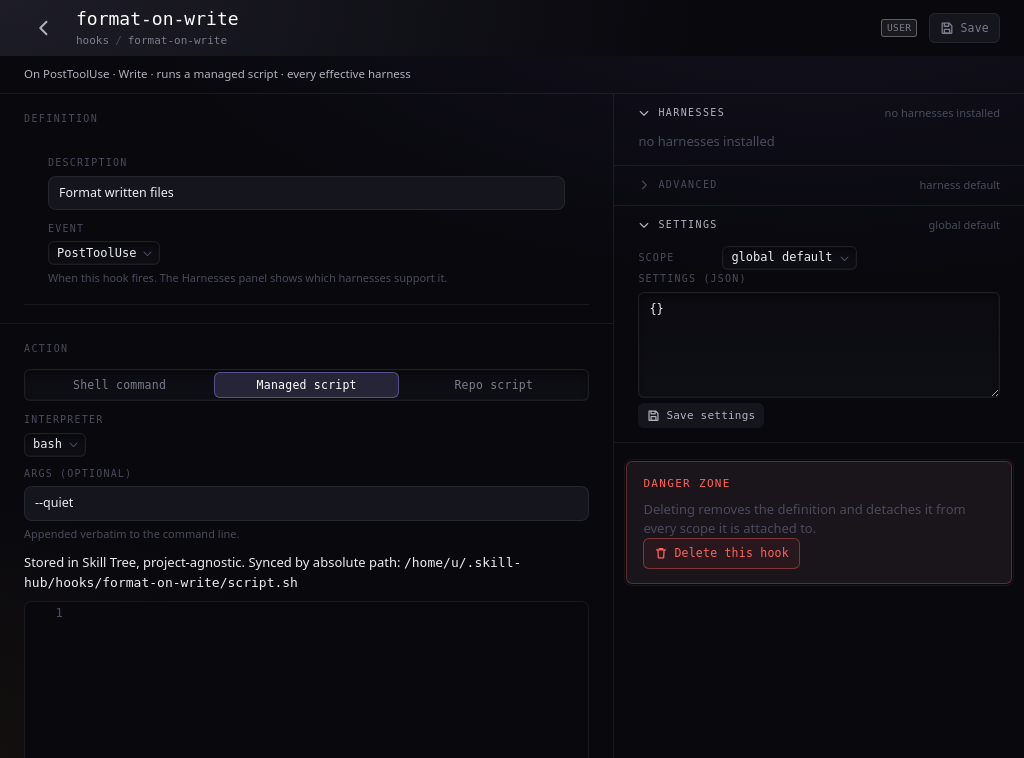
Scenario: HookActionEditor — switching away from a managed script (D6) › cancelling the confirm writes nothing and keeps the edit pending
The width and height of the screenshot is (1024, 758).
expect the text "/home/u/.skill-hub/hooks/format-on-write/script.sh" is shown: met, box x1=24 y1=556 x2=521 y2=590
Click the radio button labelled "Shell command".
click(120, 385)  # box x1=73 y1=378 x2=166 y2=392
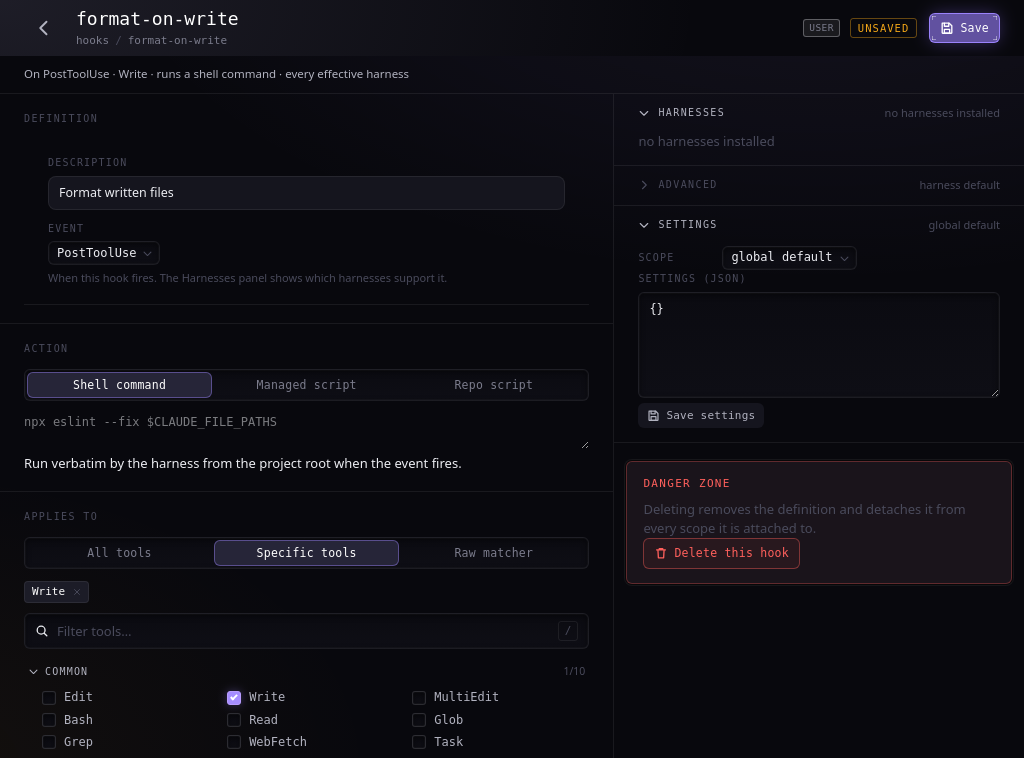
Type "echo hi" into the text box named "command".
click(307, 431); type("echo hi")  # box x1=24 y1=413 x2=589 y2=449
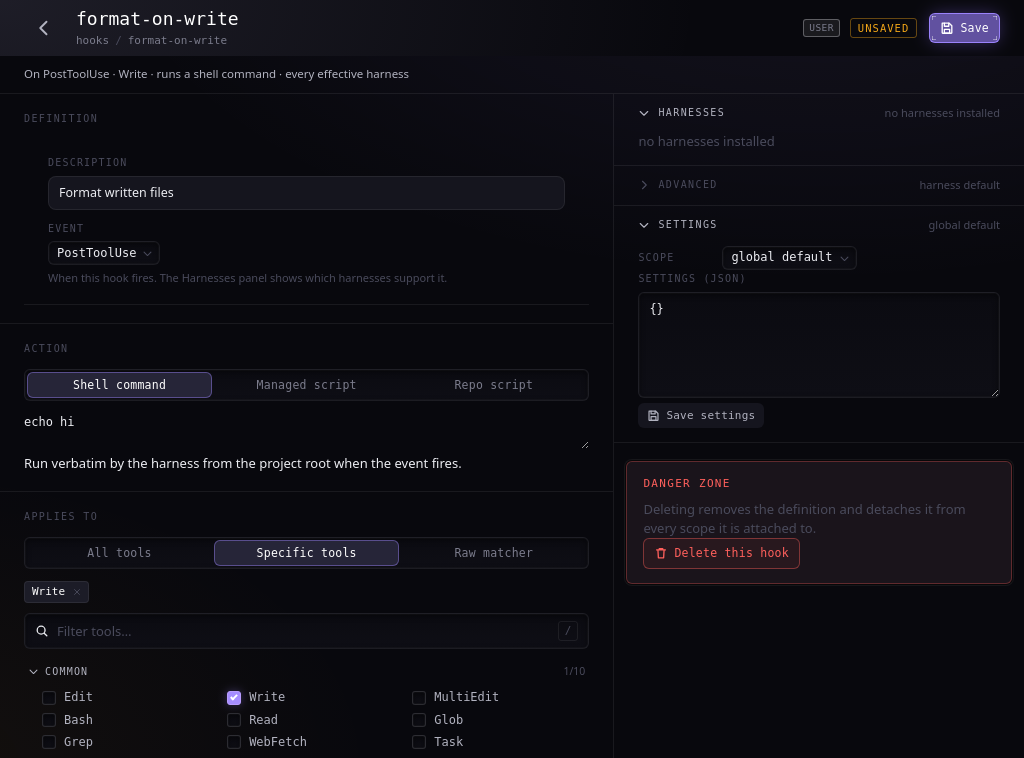
Click the button "Save".
click(965, 28)  # box x1=929 y1=13 x2=1000 y2=43
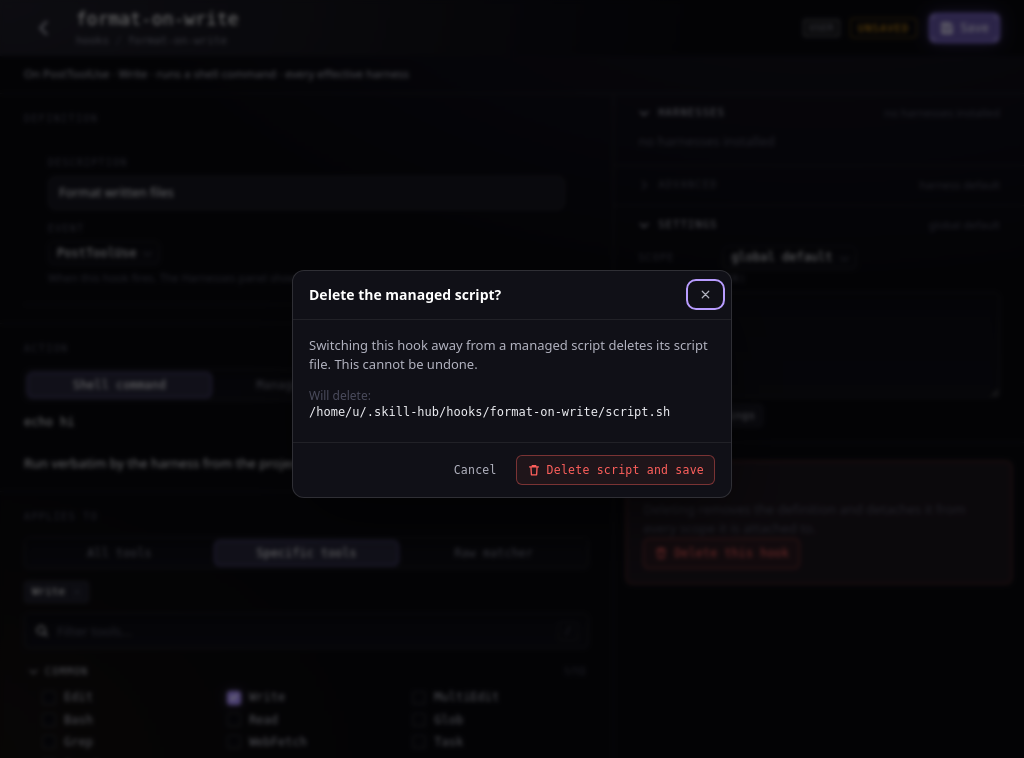
Click the button "Cancel".
click(475, 470)  # box x1=443 y1=455 x2=508 y2=485
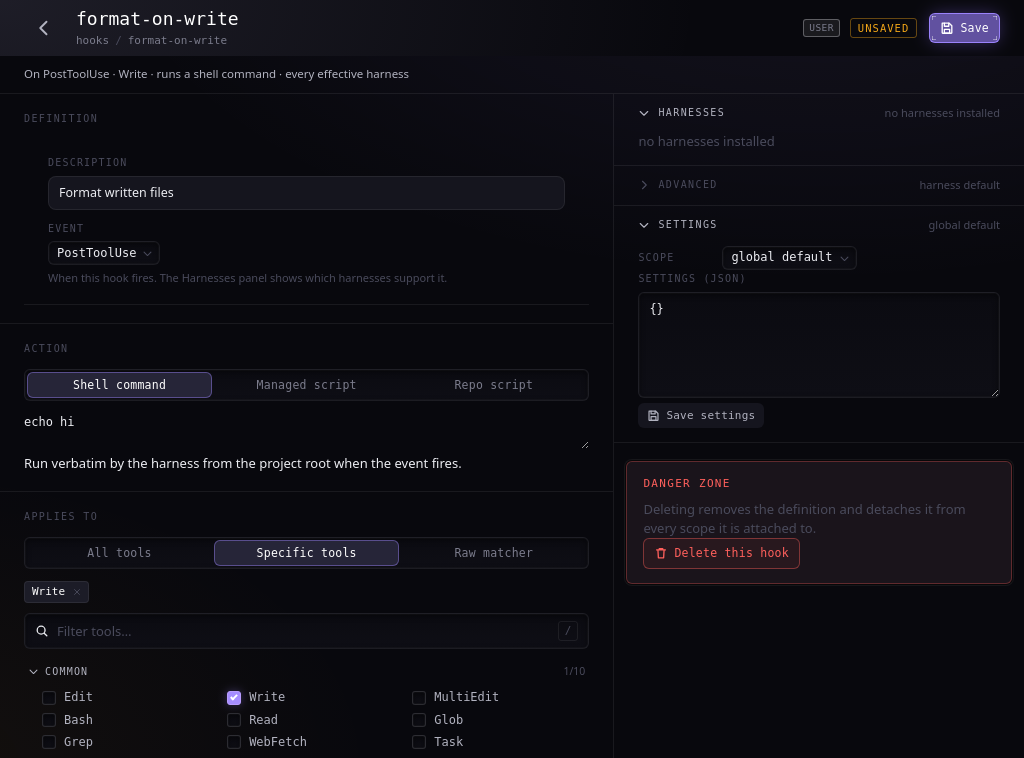
expect the text "UNSAVED" is shown: met, box x1=858 y1=21 x2=909 y2=35
expect the dialog is gone: met
